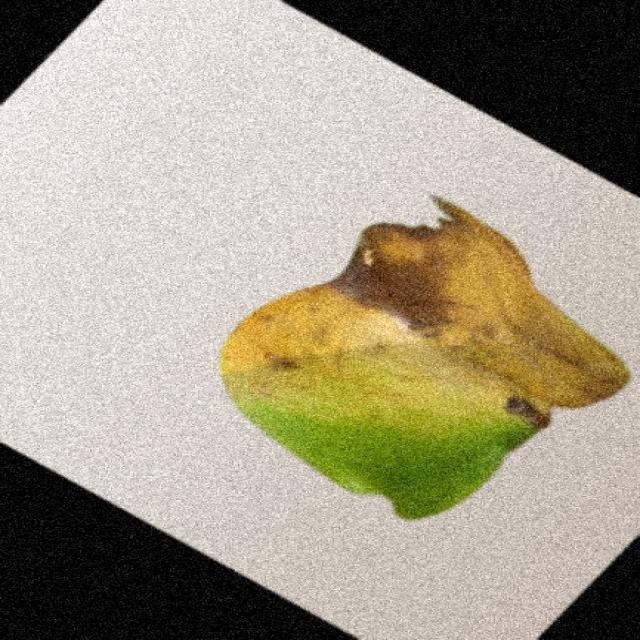daun berpenyakit kuning: (220, 198, 630, 518)
